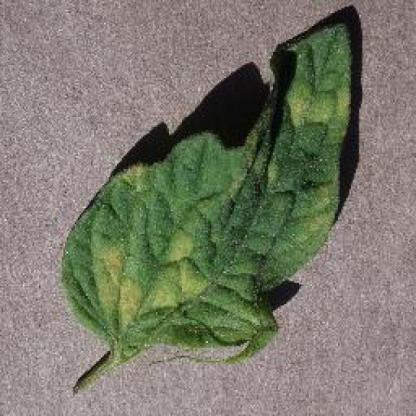Tomato_Leaf_Mold: (66, 24, 348, 345)
